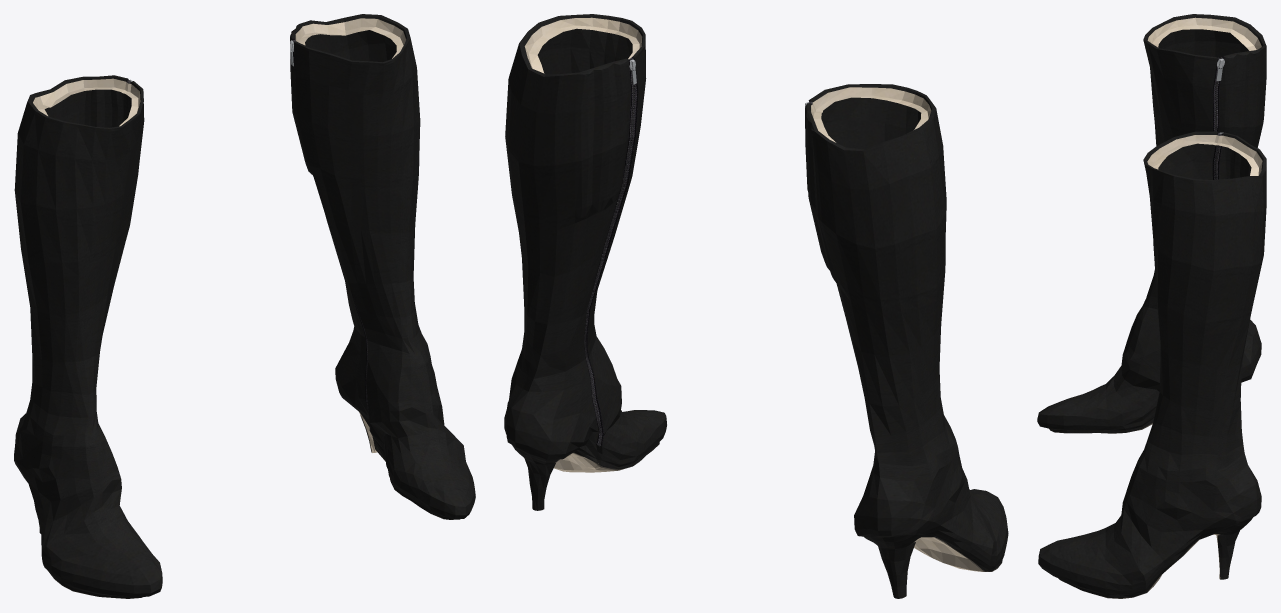
File: mhw_punkduck_female_knee_boots.glb
3 renders of one model, left to right at view 1: azimuth 30°, elevation 25°; view 2: azimuth 150°, elevation 25°; view 3: azimuth 270°, elevation 25°, orthographic. The views are drawn at different scales.
Visible parts, largest first — view 1: mhw_punkduck_female_knee_boots; view 2: mhw_punkduck_female_knee_boots; view 3: mhw_punkduck_female_knee_boots.
Part boxes in pixels (x1,y1,x2,y2): mhw_punkduck_female_knee_boots: (14, 14, 475, 598); mhw_punkduck_female_knee_boots: (504, 14, 1008, 598); mhw_punkduck_female_knee_boots: (1037, 14, 1266, 598).
Size of the model in its own units: 0.5503 by 0.5513 by 0.2774.
1 material, 1 textured.
